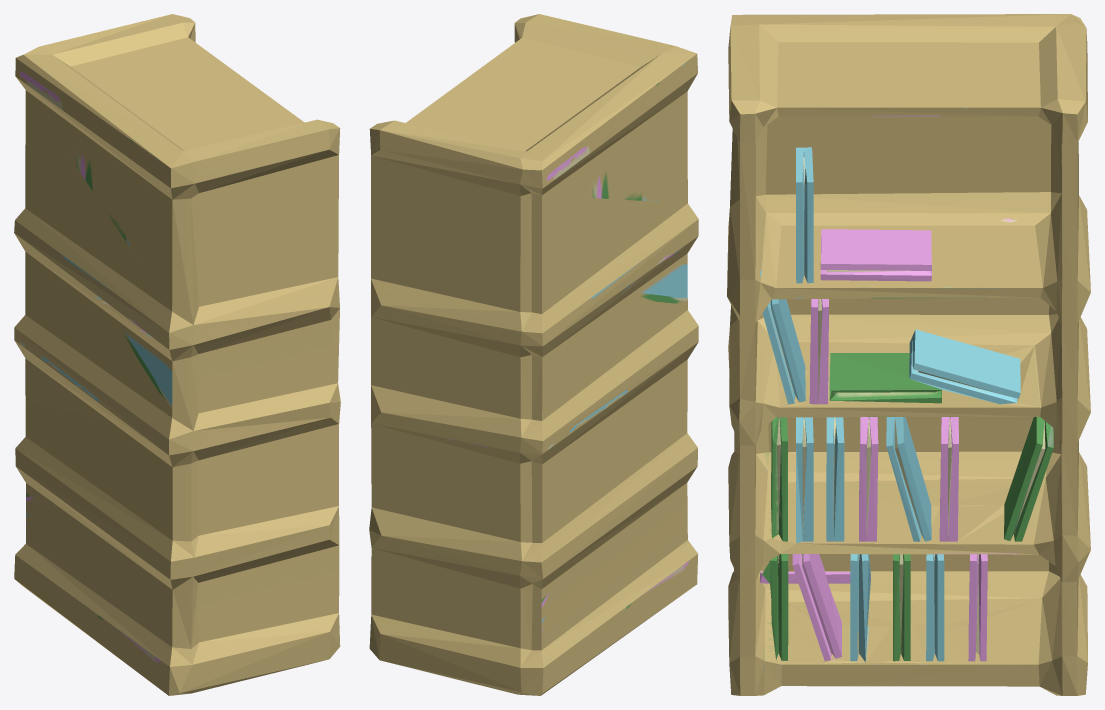
The model's file is buecherregal.glb.
3 renders of one model, left to right at view 1: azimuth 30°, elevation 25°; view 2: azimuth 150°, elevation 25°; view 3: azimuth 270°, elevation 25°, orthographic. The views are drawn at different scales.
Parts seen in each view (by area): view 1: 40089_23_05_24_13_28_29; view 2: 40089_23_05_24_13_28_29; view 3: 40089_23_05_24_13_28_29.
Part boxes in pixels (left/top/right/bottom): 40089_23_05_24_13_28_29: left=14, top=14, right=340, bottom=695; 40089_23_05_24_13_28_29: left=369, top=14, right=698, bottom=695; 40089_23_05_24_13_28_29: left=727, top=14, right=1090, bottom=695.
Bounding box in the file's own units: 4.57 × 13.37 × 7.36.
1 material, 1 textured.
